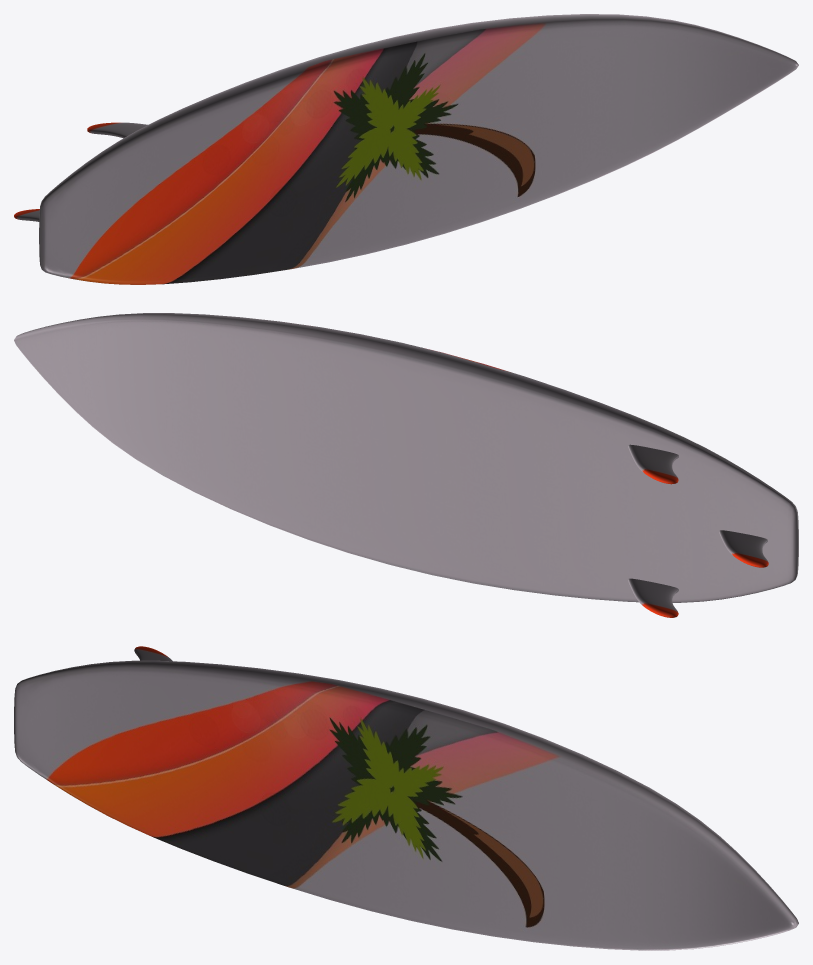
File: 10537_Surfboard_v1_L3.obj
3 renders of one model, top to bottom at view 1: azimuth 30°, elevation 25°; view 2: azimuth 150°, elevation 25°; view 3: azimuth 330°, elevation 25°, orthographic. The views are drawn at different scales.
Visible parts, largest first — view 1: 10537_surfboard; view 2: 10537_surfboard; view 3: 10537_surfboard.
Part boxes in pixels (x1,y1,x2,y2): 10537_surfboard: (14, 14, 798, 284); 10537_surfboard: (14, 313, 798, 617); 10537_surfboard: (14, 646, 798, 950).
Size of the model in its own units: 208 by 54.65 by 24.56.
Materials: 1 (1 with a texture image).
